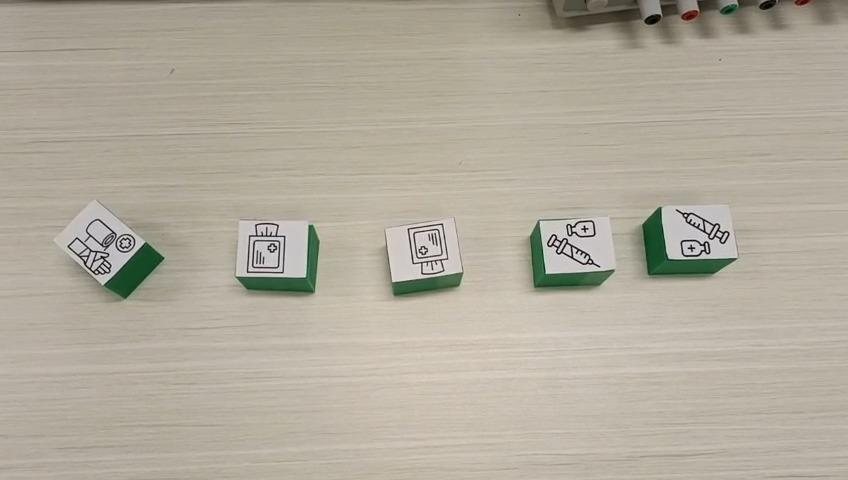Bandages: (51, 199, 164, 298)
Gauze: (383, 217, 464, 296), (238, 218, 320, 295)
antiseptic cream: (640, 203, 740, 275), (528, 215, 617, 288)
